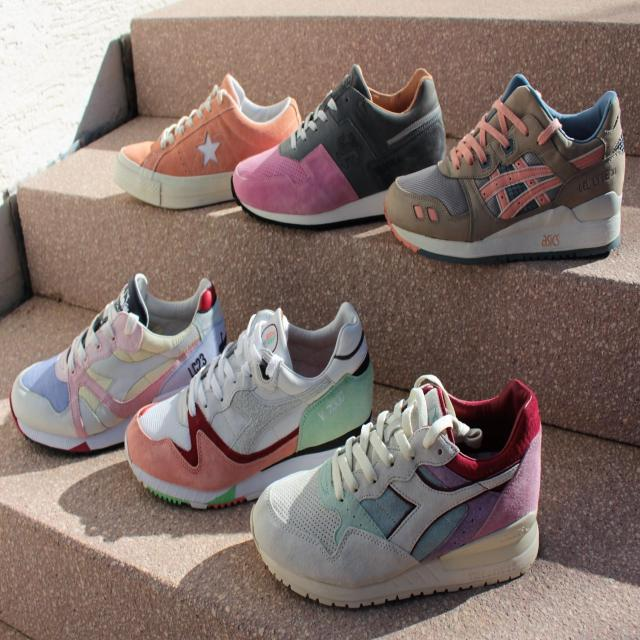shoe: (246, 367, 554, 626), (123, 297, 379, 533), (380, 68, 634, 272), (6, 264, 235, 467), (228, 55, 457, 236), (109, 59, 309, 222)
